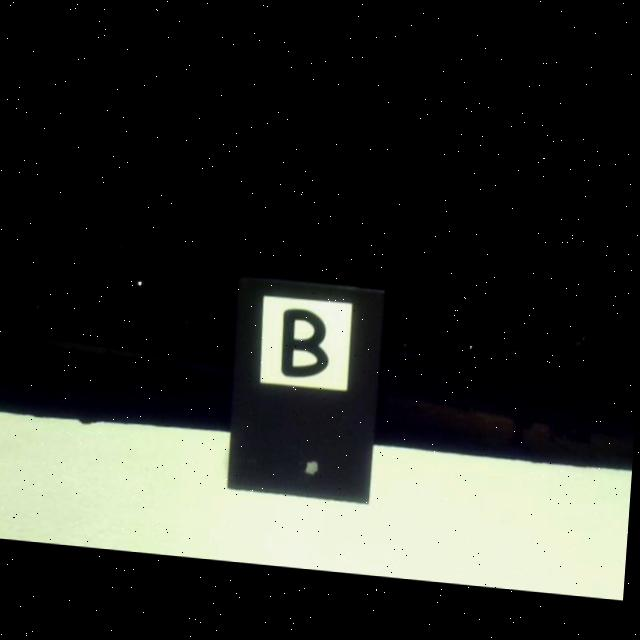B: (281, 307, 328, 376)
